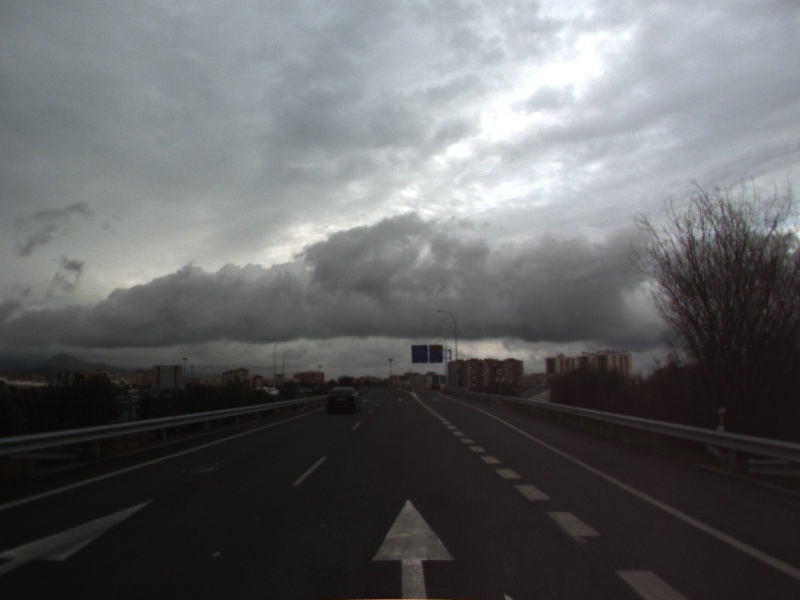STRAIGHT: (1, 497, 157, 579), (366, 495, 459, 600)
